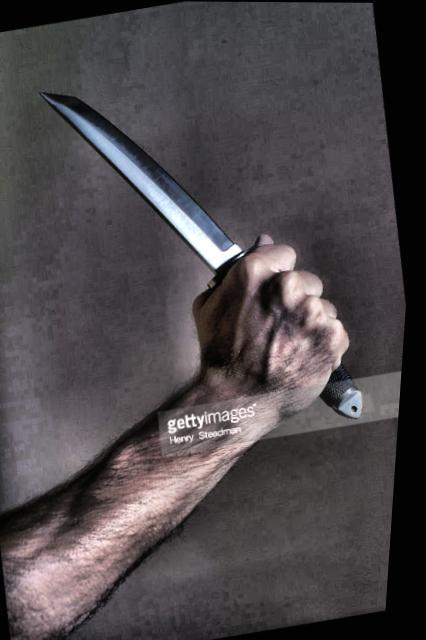knife: (16, 37, 380, 388)
